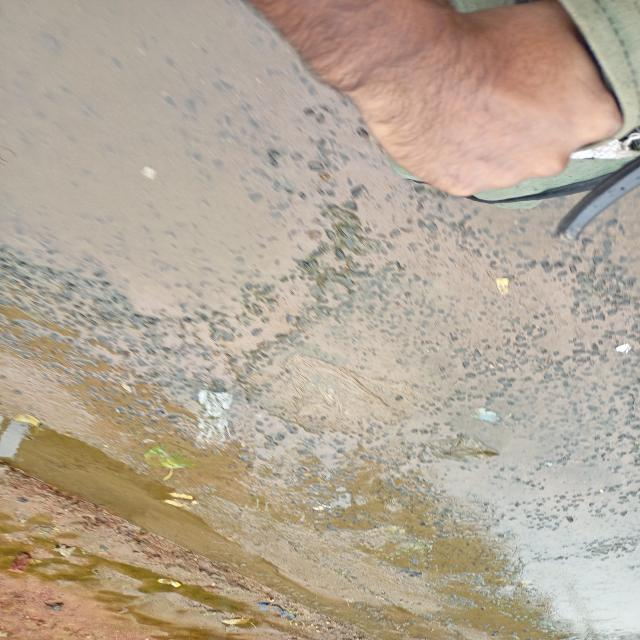potholes: (2, 401, 516, 640)
